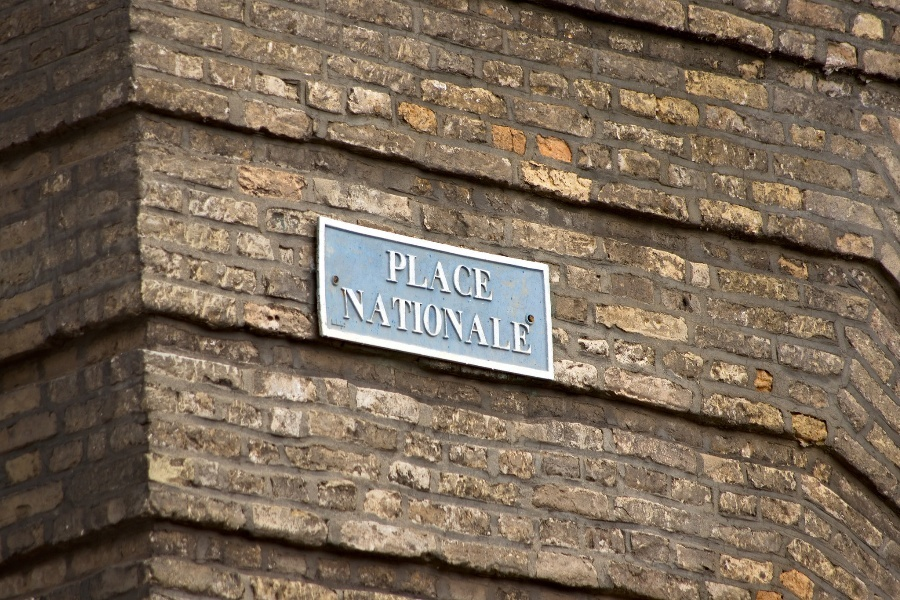text: (353, 286, 368, 357), (369, 286, 384, 357), (385, 286, 400, 357), (401, 286, 416, 357), (417, 286, 432, 357), (433, 286, 448, 357), (449, 286, 464, 357), (465, 286, 480, 357), (481, 286, 496, 357), (497, 286, 512, 357), (513, 286, 528, 357), (401, 249, 416, 303), (417, 249, 432, 303), (433, 249, 448, 303), (449, 249, 464, 303), (465, 249, 480, 303), (341, 286, 352, 357), (387, 249, 400, 303), (481, 249, 493, 303), (529, 286, 534, 357)
